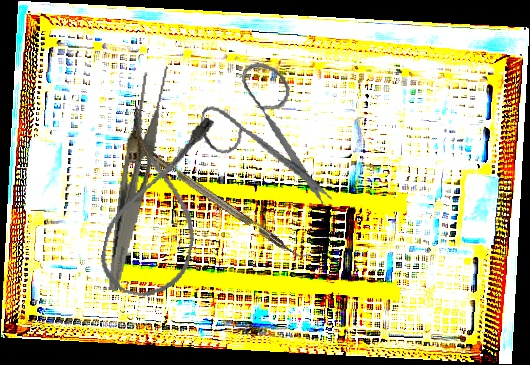Cannula: (94, 102, 220, 305)
Chopper: (133, 133, 313, 266)
Dressing Forceps: (107, 62, 172, 295)
Iris Scissors: (189, 54, 355, 210)
